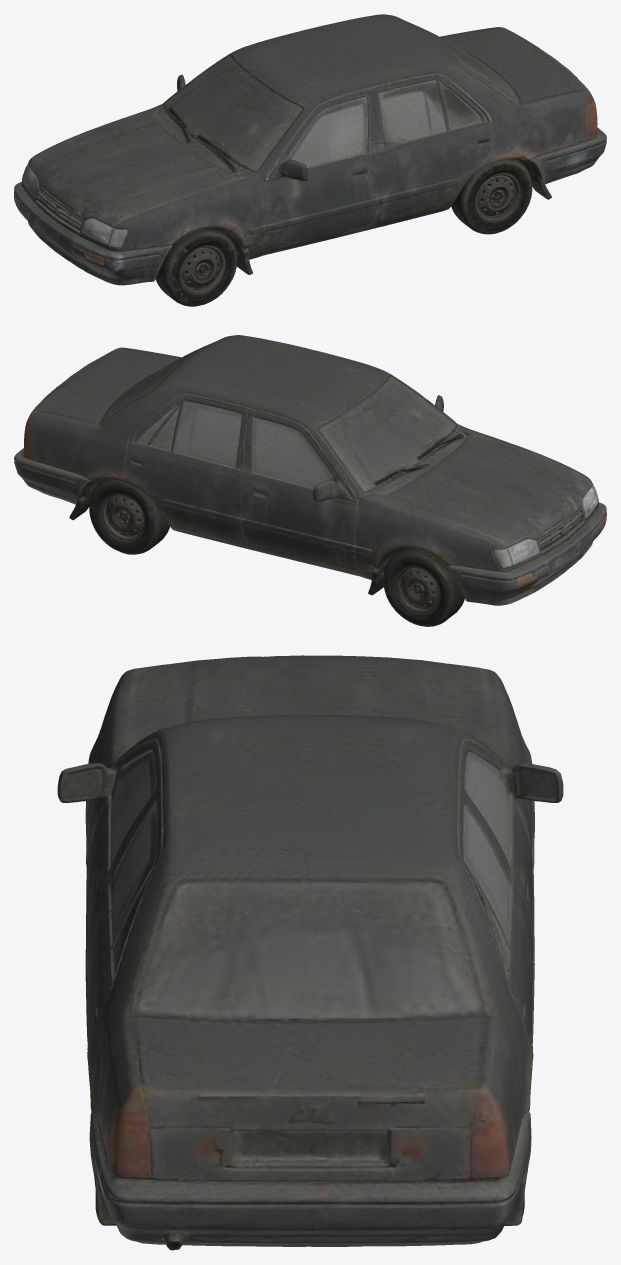
File: car_sedan_light_q3.glb
3 views of the same model, one above another, from view 1: azimuth 30°, elevation 25°; view 2: azimuth 150°, elevation 25°; view 3: azimuth 270°, elevation 25° (orthographic). The views are drawn at different scales.
Size of the model in its own units: 1.9 by 0.5968 by 0.8109.
Materials: 1 (1 with a texture image).
